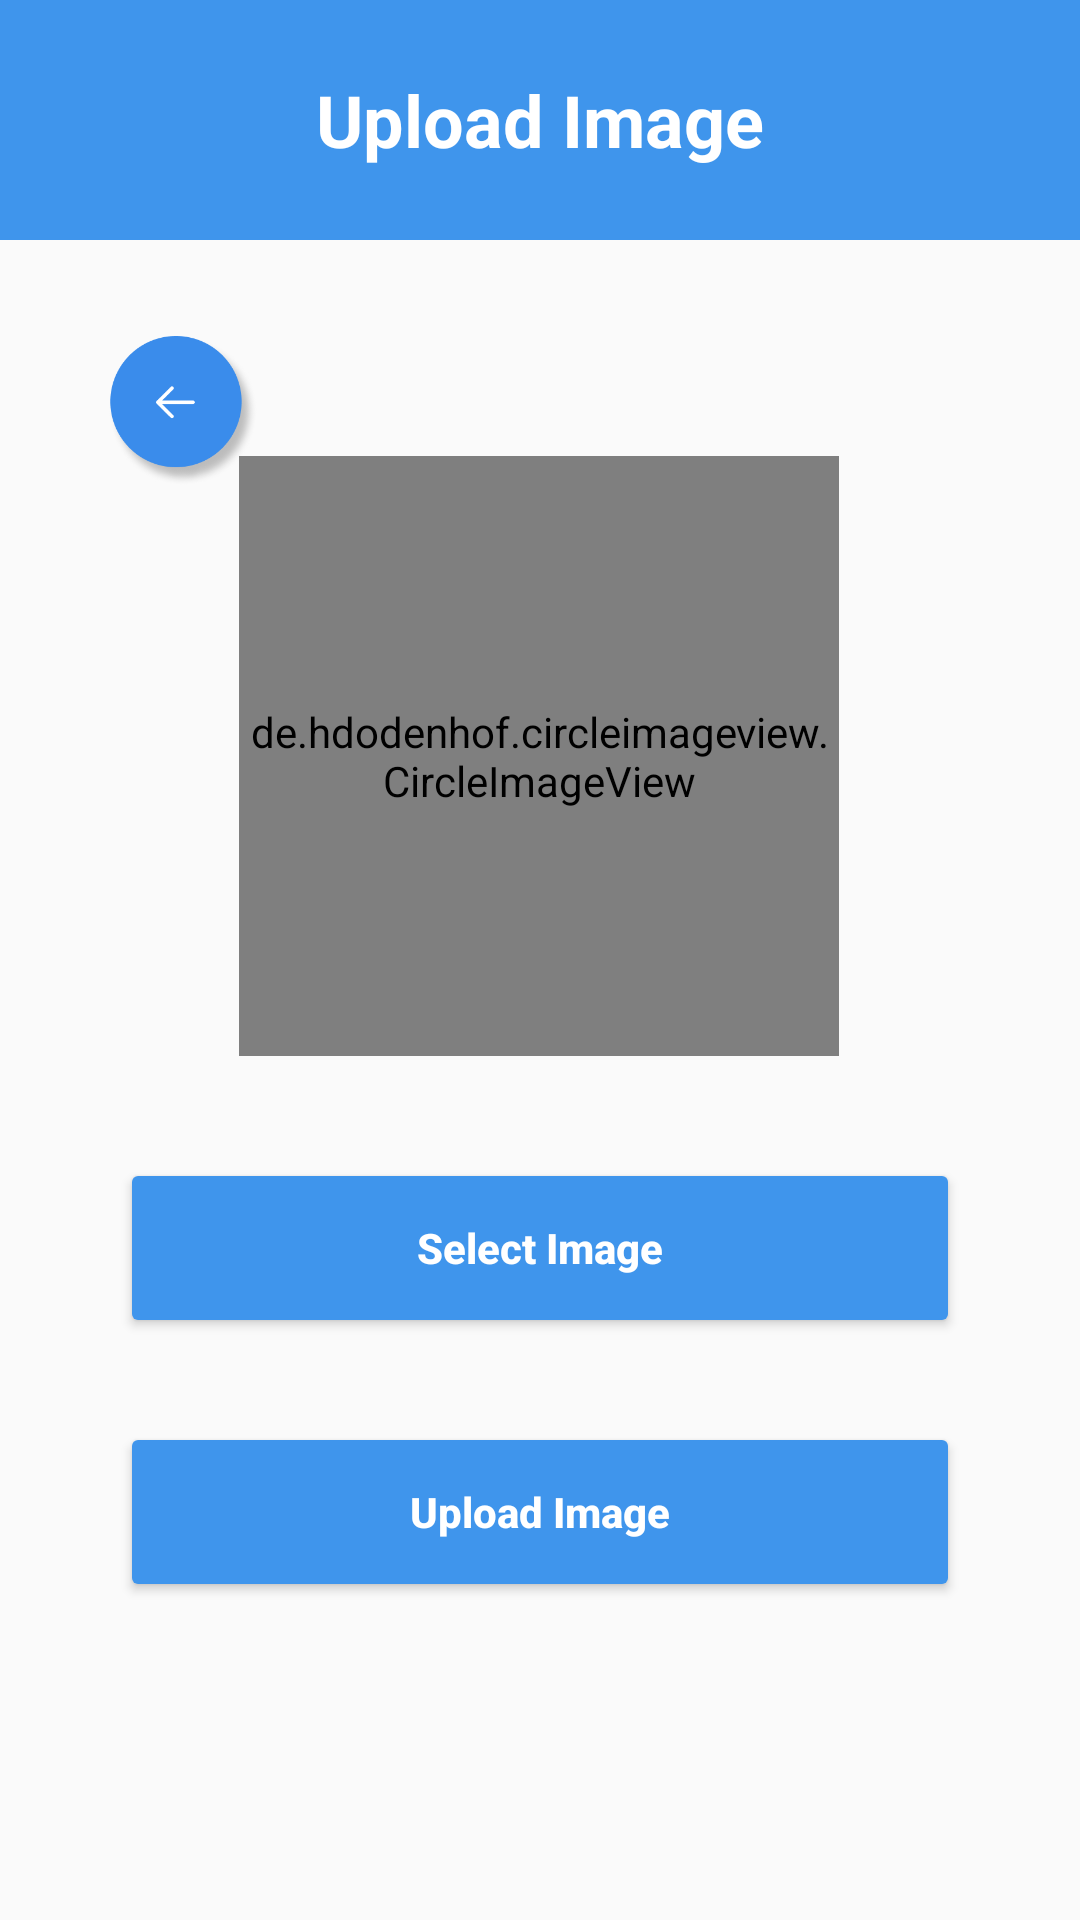

Where to tap for icons on this 1080×1920 app screen, as (x=x, y=y):
back: (x=180, y=407)
